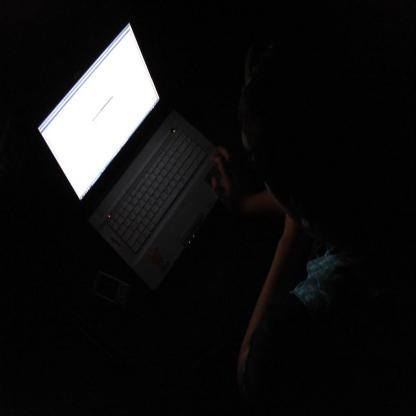board: (37, 18, 227, 290)
